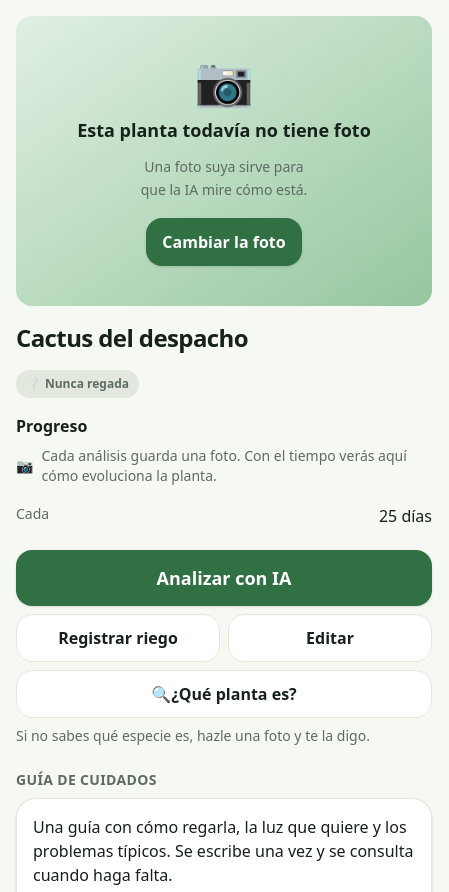
Scenario: <DetallePlanta> › registra un riego y lo añade al historial
Click the button "Registrar riego" at (118, 638), box left=16, top=614, right=220, bottom=662
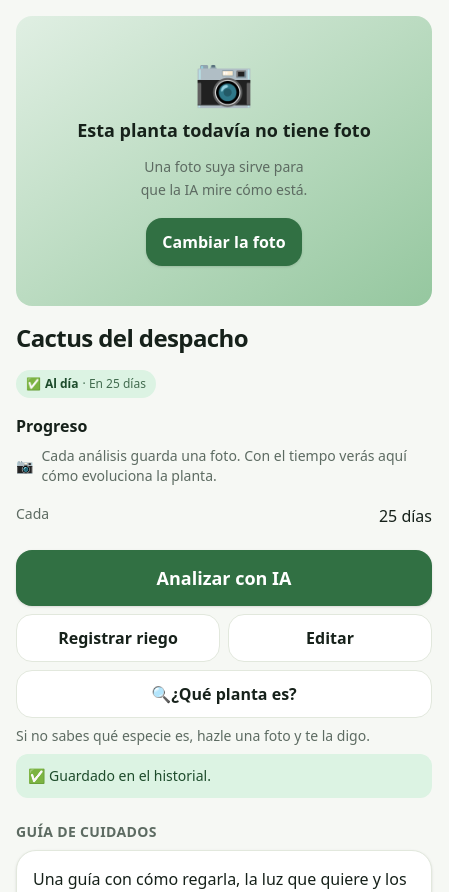
Result: the text "✅ Guardado en el historial." is shown at left=16, top=754, right=432, bottom=798
